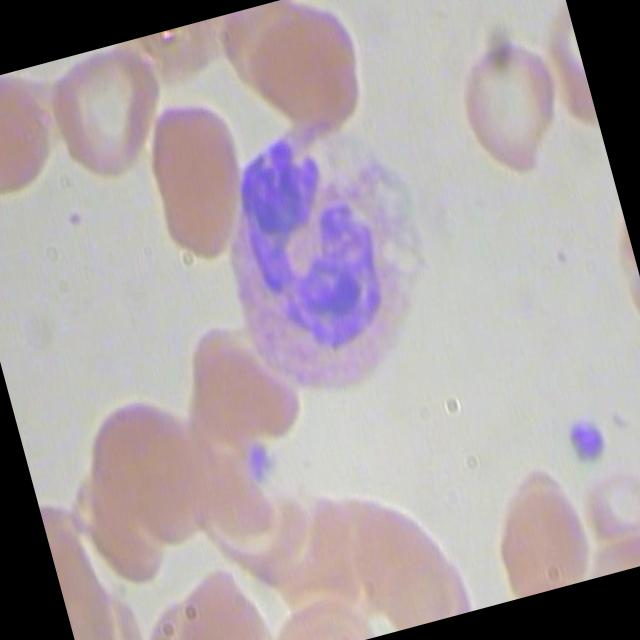Platelets: (556, 404, 618, 470), (236, 429, 280, 485)
RBC: (125, 88, 267, 268), (31, 35, 182, 198), (438, 16, 577, 193), (336, 484, 475, 636), (76, 386, 210, 539), (232, 0, 375, 141), (470, 450, 602, 600), (157, 549, 278, 640), (0, 65, 70, 216), (566, 453, 640, 569)
WBC: (190, 84, 480, 418)
